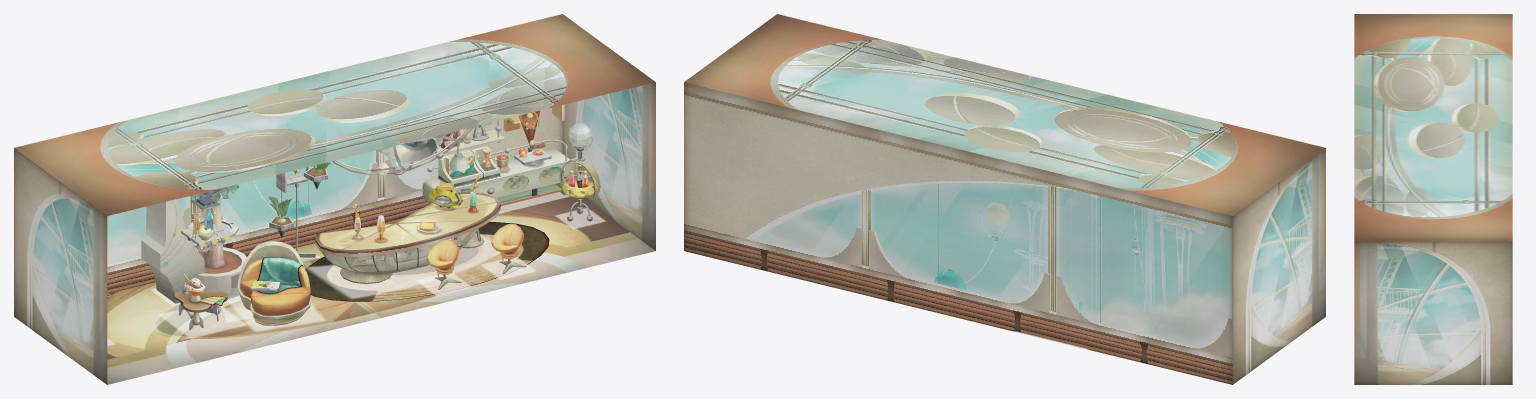
File: cloudRestaurant.glb
3 views of the same model, side by side, from view 1: azimuth 30°, elevation 25°; view 2: azimuth 150°, elevation 25°; view 3: azimuth 270°, elevation 25° (orthographic). The views are drawn at different scales.
Visible parts, largest first — view 1: ROOM_room, ROOM_floor, furni_cloudRestaurant_table_03.001, furni_cloudRestaurant_carpet_01, furni_cloudRestaurant_plant_01, furni_cloudRestaurant_bar_01, shadow_01.005, furni_cloudRestaurant_ceilingLight_01, furni_cloudRestaurant_sofa_02, furni_cloudRestaurant_sofa_01, furni_cloudRestaurant_table_02.001, furni_cloudRestaurant_table_05 (+17 smaller); view 2: ROOM_room, ROOM_LDoor; view 3: ROOM_room, ROOM_RDoor, shadow_01.002.
Part boxes in pixels (x1,y1,x2,y2): ROOM_room: (14, 14, 655, 384); ROOM_floor: (107, 192, 655, 384); furni_cloudRestaurant_table_03.001: (315, 175, 500, 273); furni_cloudRestaurant_carpet_01: (305, 222, 549, 301); furni_cloudRestaurant_plant_01: (141, 199, 246, 303); furni_cloudRestaurant_bar_01: (422, 139, 574, 205); shadow_01.005: (305, 231, 499, 298); furni_cloudRestaurant_ceilingLight_01: (332, 126, 474, 175); furni_cloudRestaurant_sofa_02: (240, 258, 311, 315); furni_cloudRestaurant_sofa_01: (237, 241, 311, 325); furni_cloudRestaurant_table_02.001: (340, 192, 484, 284); furni_cloudRestaurant_table_05: (325, 244, 434, 271); ROOM_room: (684, 14, 1325, 384); ROOM_LDoor: (1293, 250, 1312, 340); ROOM_room: (1354, 14, 1512, 384); ROOM_RDoor: (1377, 319, 1410, 384); shadow_01.002: (1512, 216, 1517, 246).
Bounding box in the file's own units: 7.48 × 2.2 × 2.33.
Materials: 10 (10 with a texture image).
